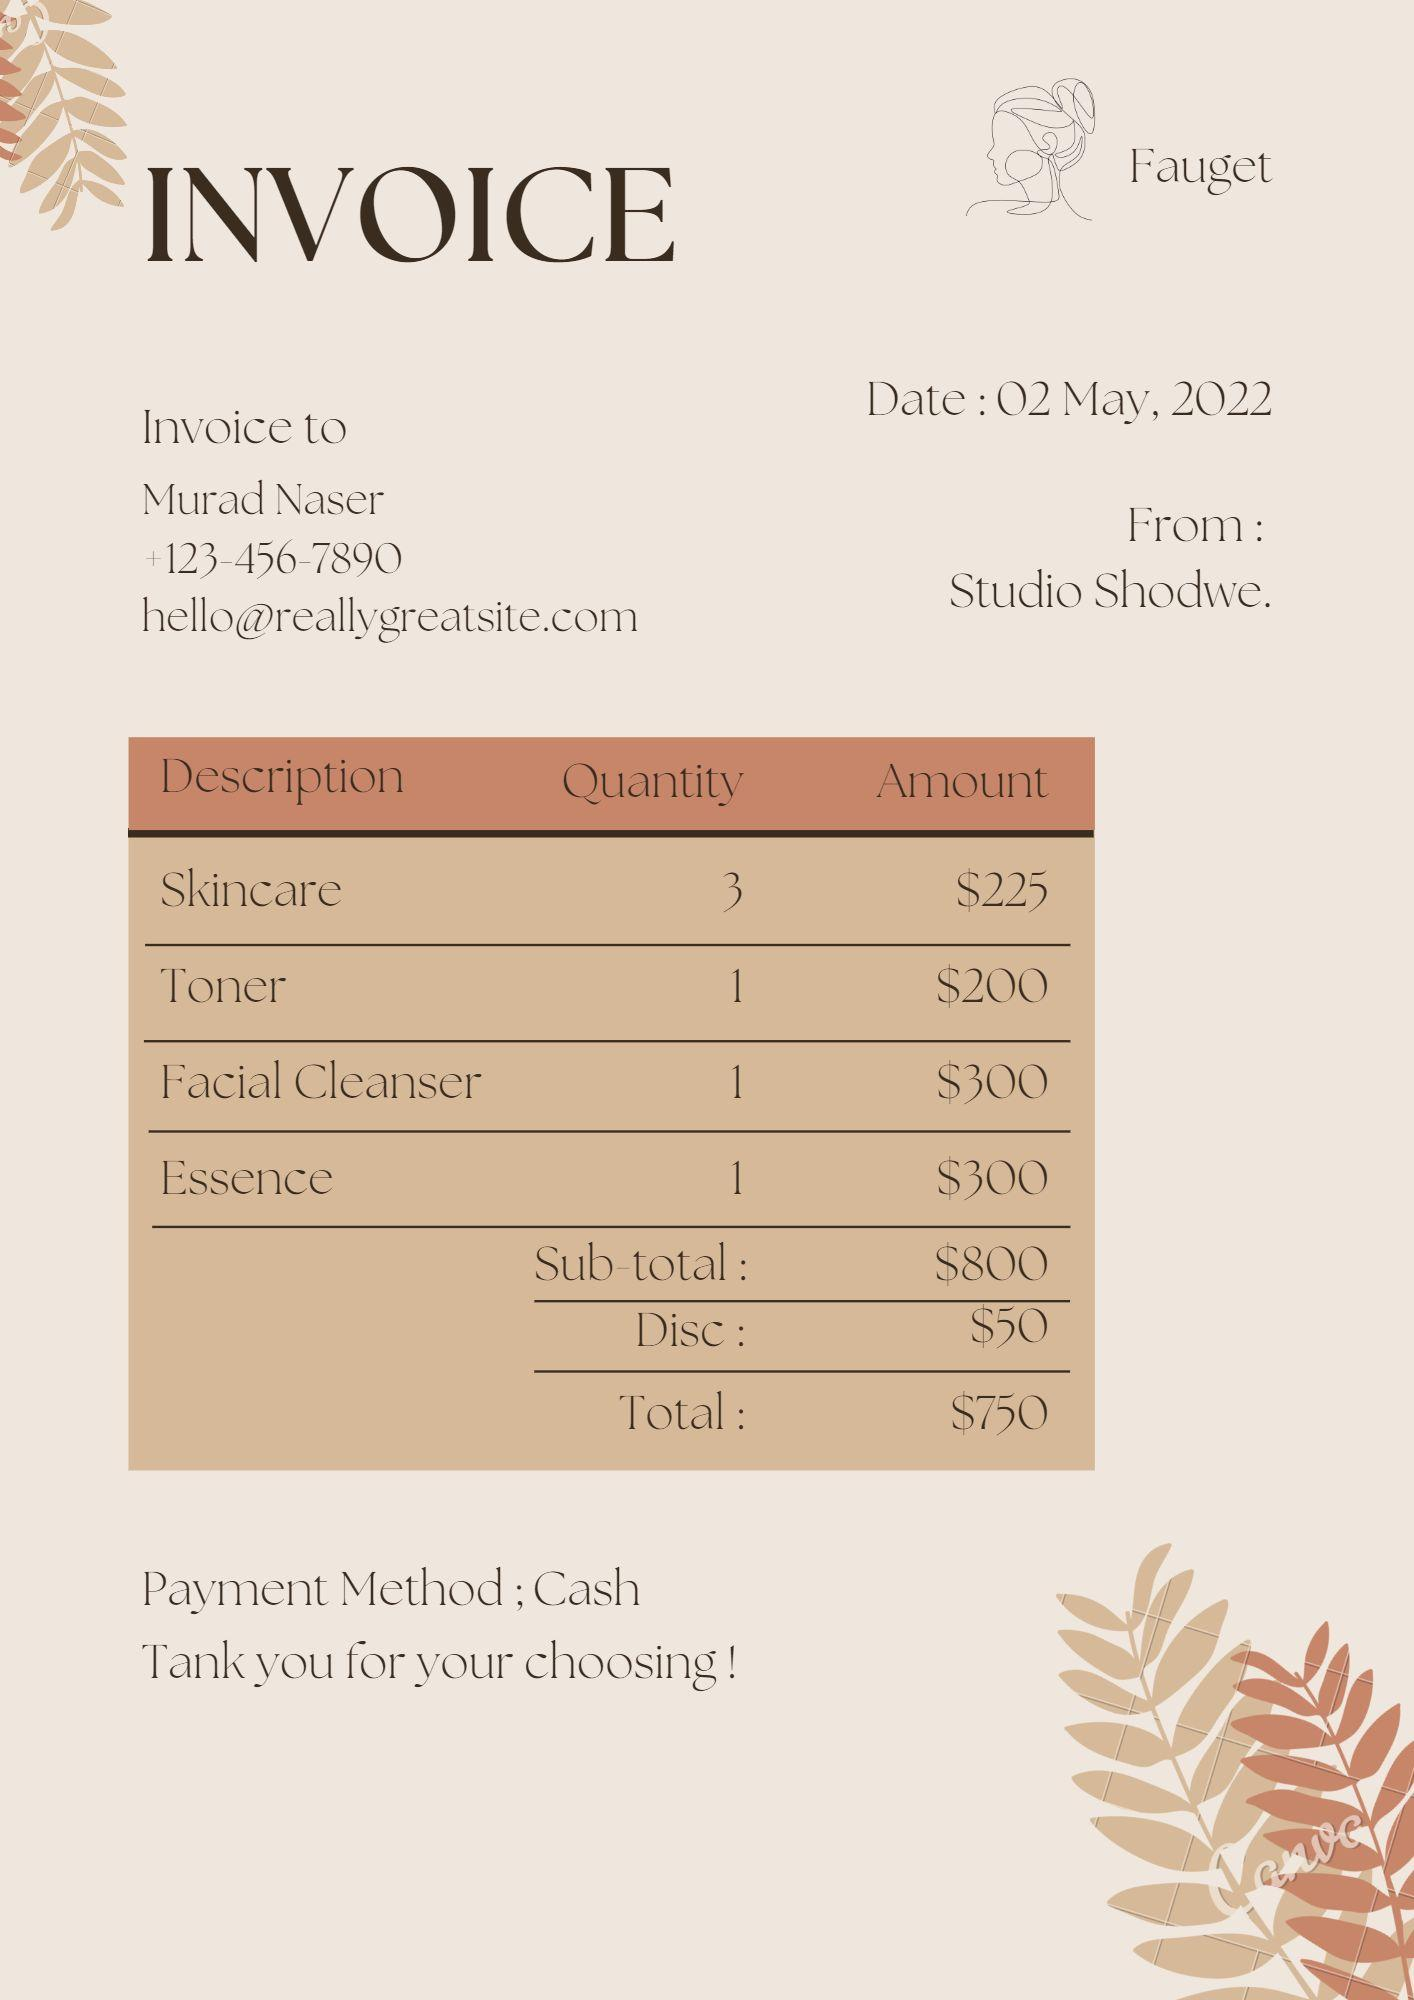ROI: (141, 736, 1070, 1238)
